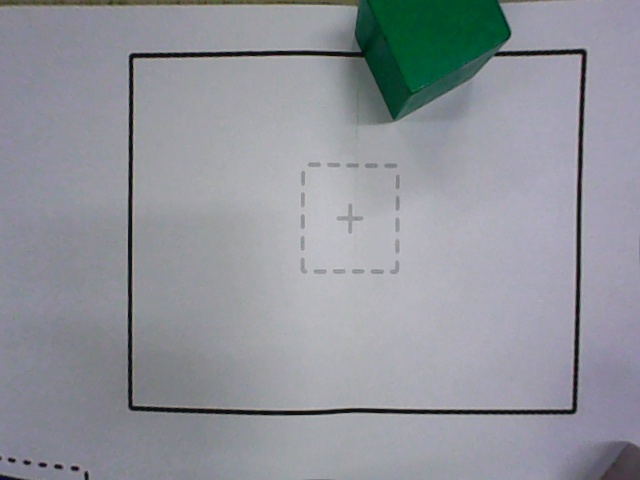upside of big cube: (366, 0, 512, 94)
